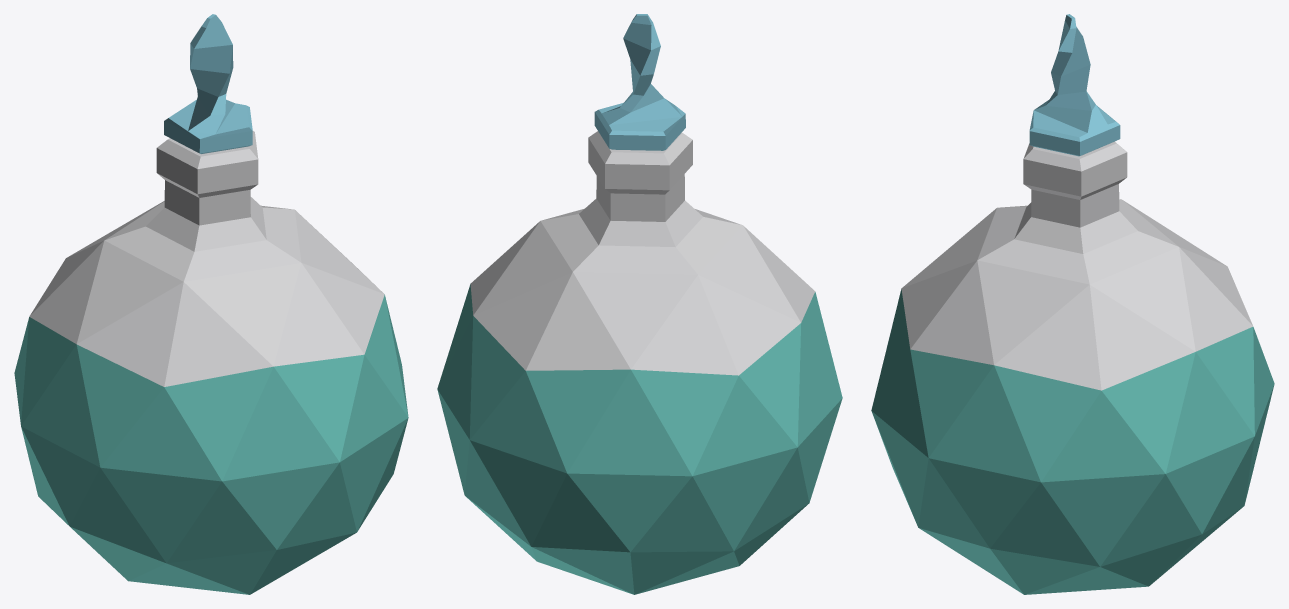
File: WF_LP_HT_Props_PotionBottle.005.fbx
3 views of the same model, side by side, from view 1: azimuth 30°, elevation 25°; view 2: azimuth 150°, elevation 25°; view 3: azimuth 270°, elevation 25° (orthographic).
Visible parts, largest first — view 1: WF_LP_HT_Props_PotionBottle.005; view 2: WF_LP_HT_Props_PotionBottle.005; view 3: WF_LP_HT_Props_PotionBottle.005.
Boxes of the visible parts, x1,y1,x2,y2 form: WF_LP_HT_Props_PotionBottle.005: (14, 14, 408, 594); WF_LP_HT_Props_PotionBottle.005: (437, 14, 842, 594); WF_LP_HT_Props_PotionBottle.005: (871, 14, 1274, 594).
Bounding box in the file's own units: 0.1473 × 0.2278 × 0.1473.
